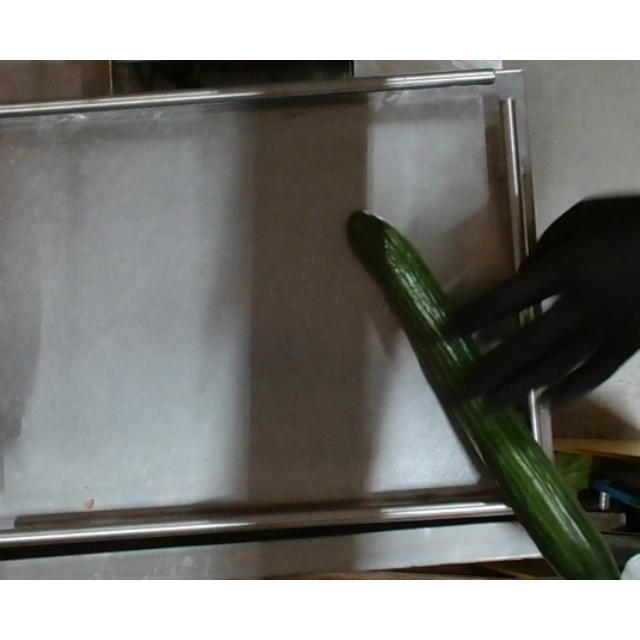cucumber: (346, 210, 622, 580)
